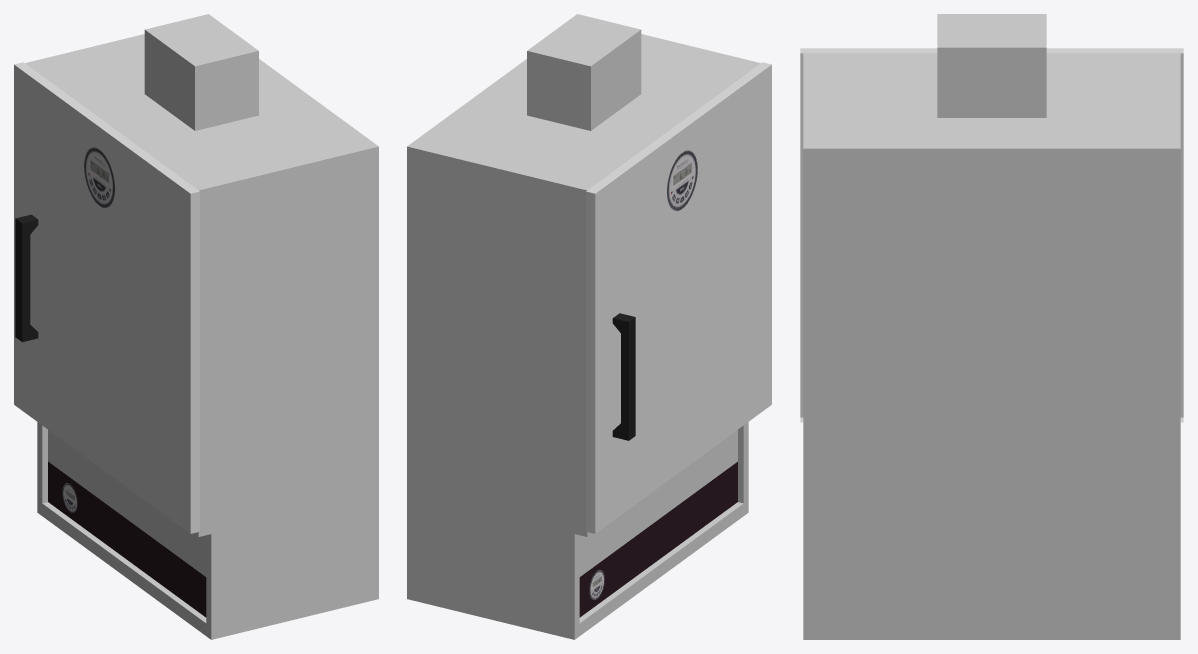
Rendered from Laboratory oven.fbx.
The picture shows the model from 3 angles, left to right: view 1: azimuth 30°, elevation 25°; view 2: azimuth 150°, elevation 25°; view 3: azimuth 270°, elevation 25°; orthographic projection. The views are drawn at different scales.
Parts seen in each view (by area): view 1: Cube.002, Cube.004, Cube.003, timer; view 2: Cube.002, Cube.004, Cube.003, timer; view 3: Cube.002, Cube.004.
Part boxes in pixels (x1,y1,x2,y2): Cube.002: [25, 14, 378, 639]; Cube.004: [14, 62, 199, 533]; Cube.003: [15, 214, 38, 342]; timer: [84, 147, 114, 207]; Cube.002: [407, 14, 760, 639]; Cube.004: [586, 62, 771, 533]; Cube.003: [612, 313, 635, 440]; timer: [667, 150, 697, 211]; Cube.002: [803, 14, 1180, 639]; Cube.004: [800, 48, 1183, 422].
Size of the model in its own units: 36.7 by 88.16 by 54.57.
